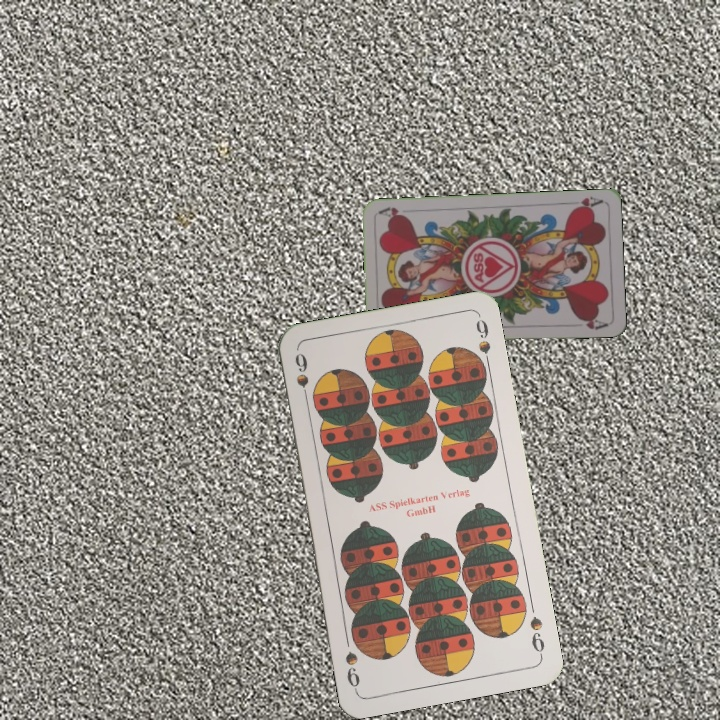HA: (567, 192, 605, 213)
S9: (290, 348, 312, 407), (525, 612, 548, 659)
